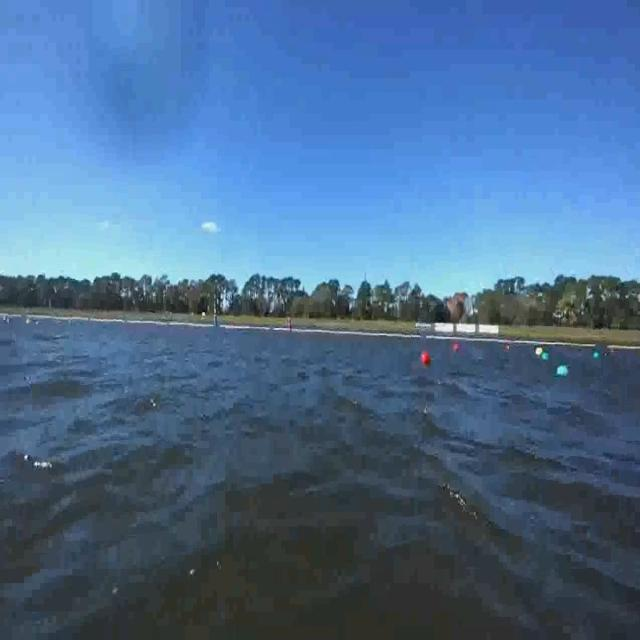green-buoy: (541, 348, 551, 369), (557, 364, 569, 376)
red-buoy: (421, 351, 430, 365), (454, 340, 459, 358)
